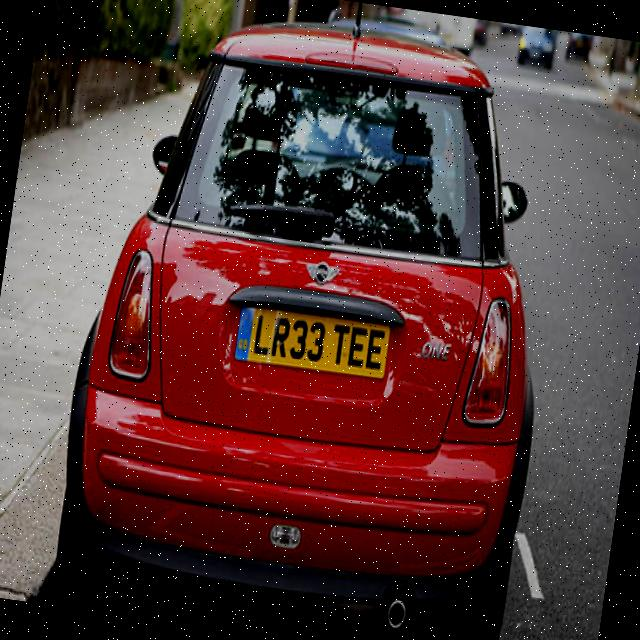Autre: (232, 304, 391, 379)
